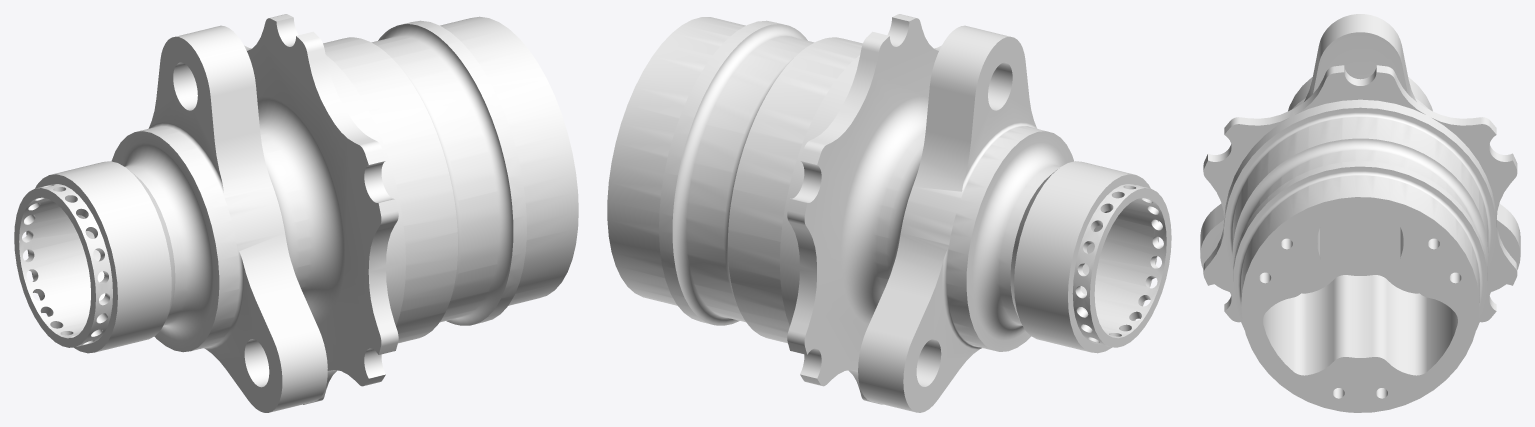
File: hubs3.glb
3 views of the same model, side by side, from view 1: azimuth 30°, elevation 25°; view 2: azimuth 150°, elevation 25°; view 3: azimuth 270°, elevation 25° (orthographic). The views are drawn at different scales.
Visible parts, largest first — view 1: rear hub shiny; view 2: rear hub shiny; view 3: rear hub shiny.
Part boxes in pixels (left/top/right/bottom): rear hub shiny: left=14, top=14, right=578, bottom=412; rear hub shiny: left=607, top=14, right=1171, bottom=412; rear hub shiny: left=1200, top=14, right=1520, bottom=412.
Size of the model in its own units: 1.26 by 1.01 by 0.9404.
Materials: 1 (1 with a texture image).
